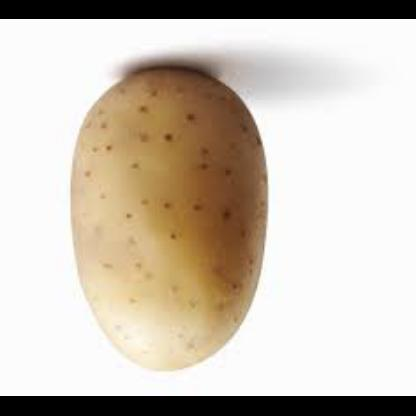potato: (70, 67, 268, 374)
